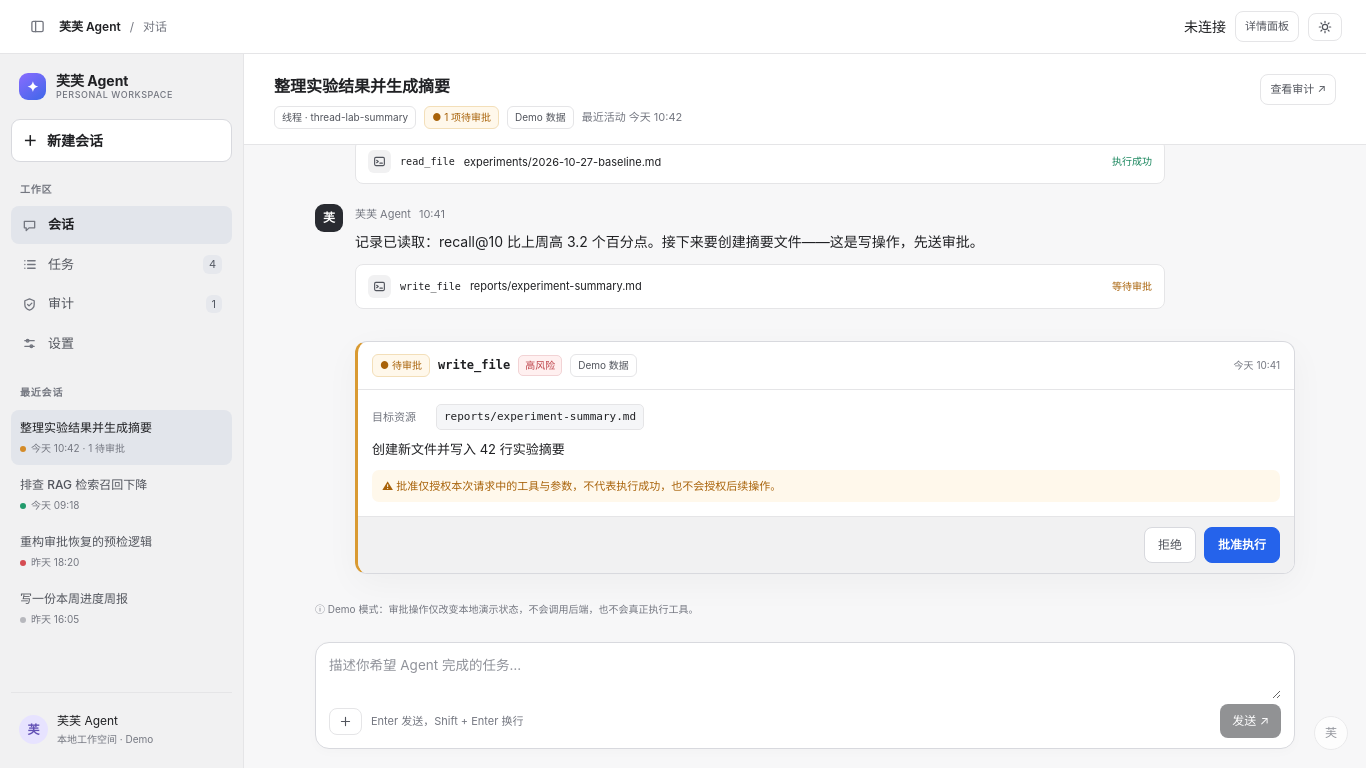
Test: App navigation › opens the inspector on a conversation
(page scrolled)
Click the button "详情面板": (1267, 27) [1235,11,1299,42]
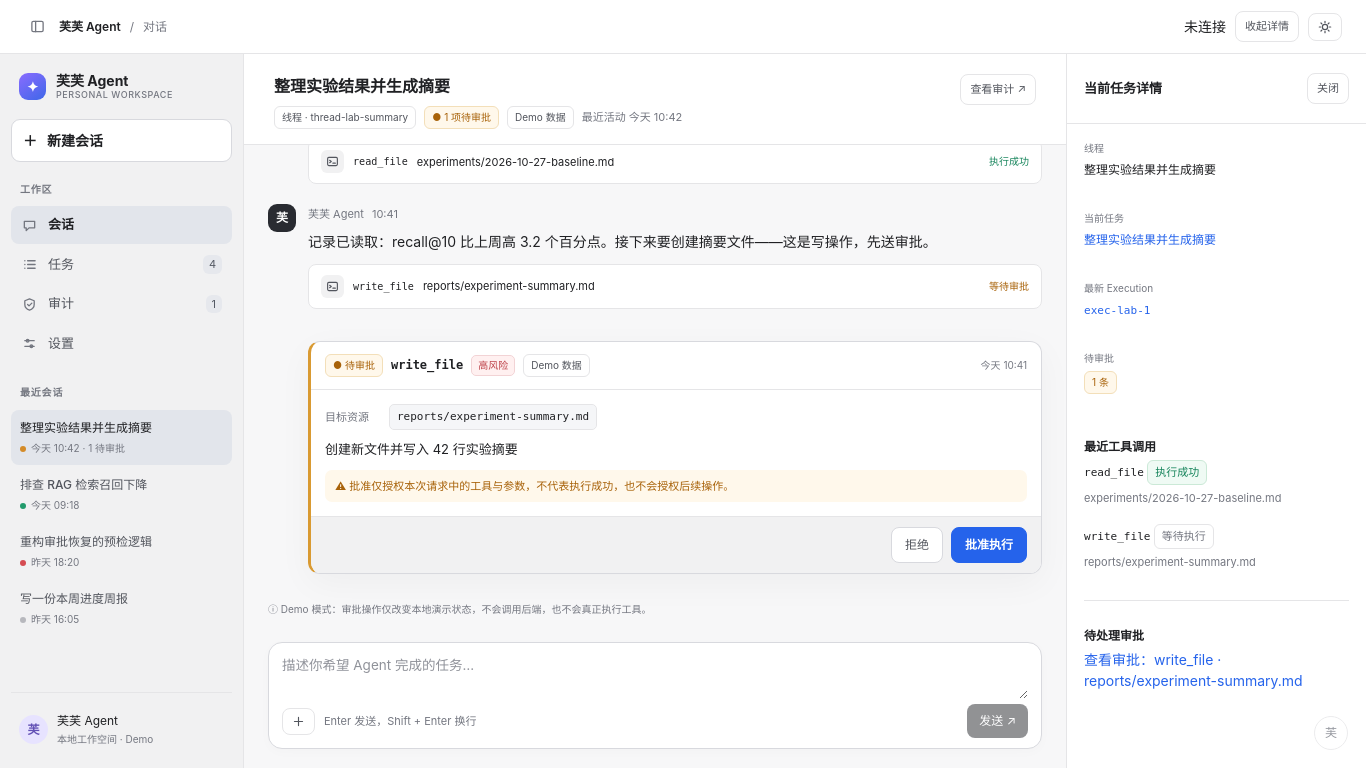
Check: the heading "当前任务详情" is shown, box [1084,78,1162,98]
Check: the text "最近工具调用" is shown, box [1084,439,1156,454]
